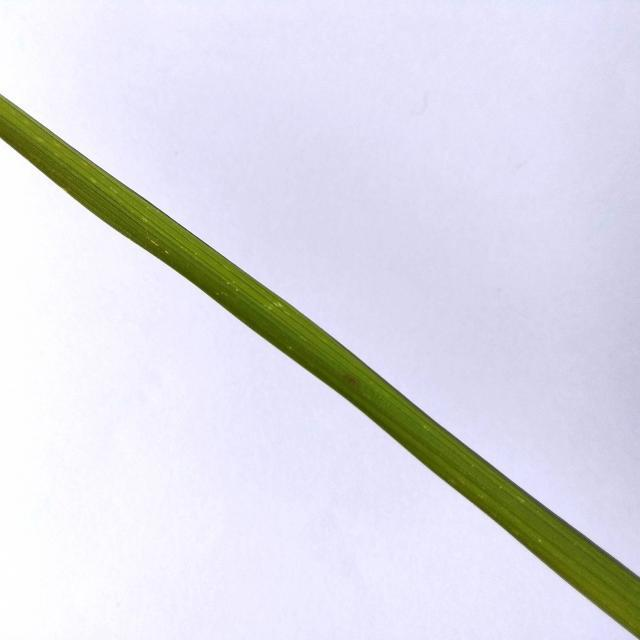brownspots: (340, 362, 366, 387)
